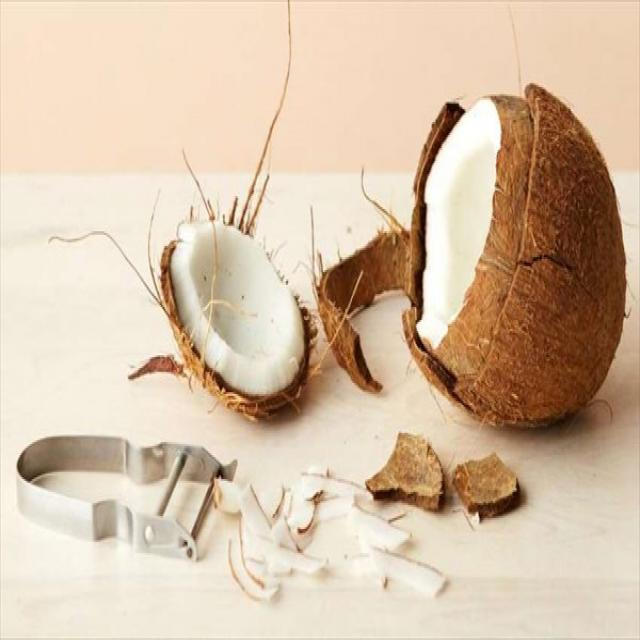coconut: (404, 83, 628, 429), (159, 215, 314, 416)
